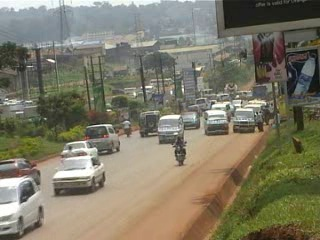Car: (0, 172, 46, 238), (51, 154, 106, 195), (0, 154, 44, 189), (58, 139, 100, 163), (179, 111, 201, 130), (185, 104, 206, 120)
Motorcycle: (172, 134, 189, 168), (121, 117, 133, 138)
